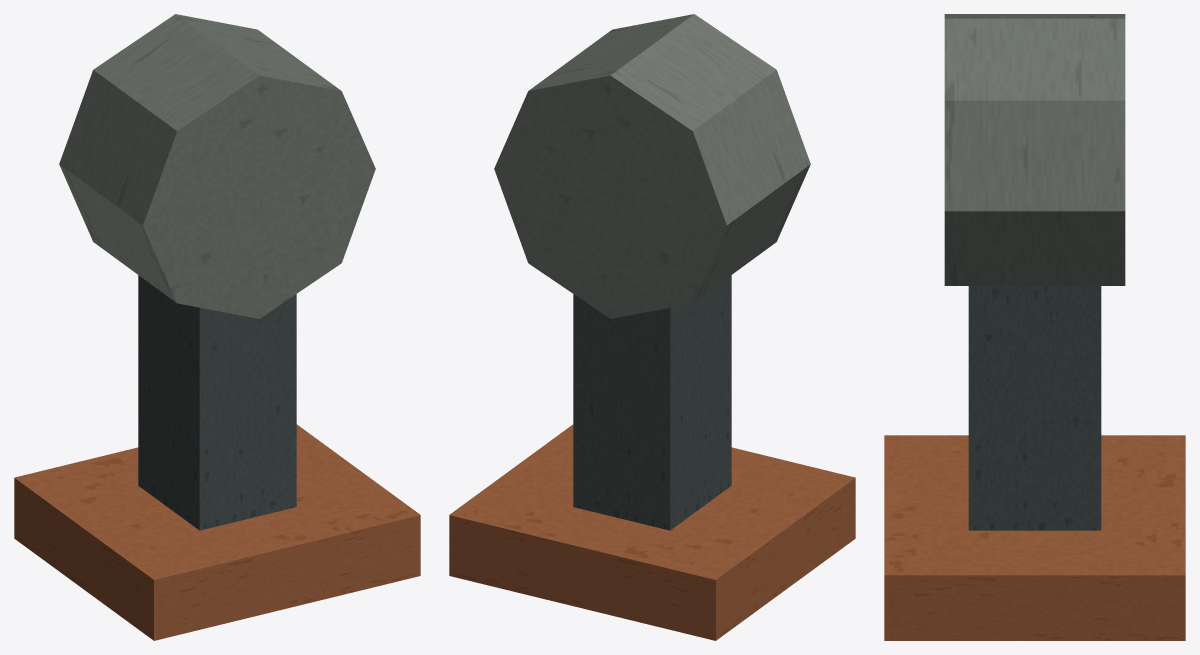
The model's file is PipeSupport.fbx.
3 renders of one model, left to right at view 1: azimuth 30°, elevation 25°; view 2: azimuth 150°, elevation 25°; view 3: azimuth 270°, elevation 25°, orthographic. The views are drawn at different scales.
Visible parts, largest first — view 1: PipeSupport; view 2: PipeSupport; view 3: PipeSupport.
Boxes of the visible parts, <box> form: PipeSupport: <box>14,14,420,640</box>; PipeSupport: <box>449,14,855,640</box>; PipeSupport: <box>884,14,1185,640</box>.
Size of the model in its own units: 55 by 101 by 50.
